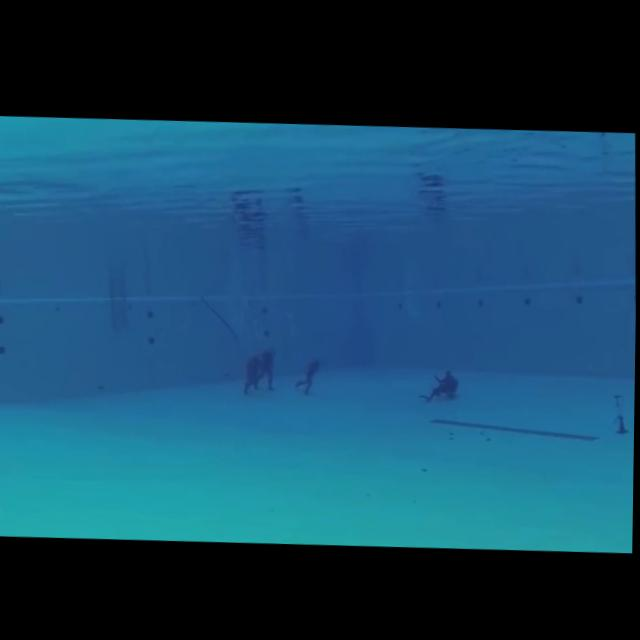human: (416, 358, 465, 404), (292, 346, 324, 397), (237, 343, 267, 396), (252, 336, 280, 392)
